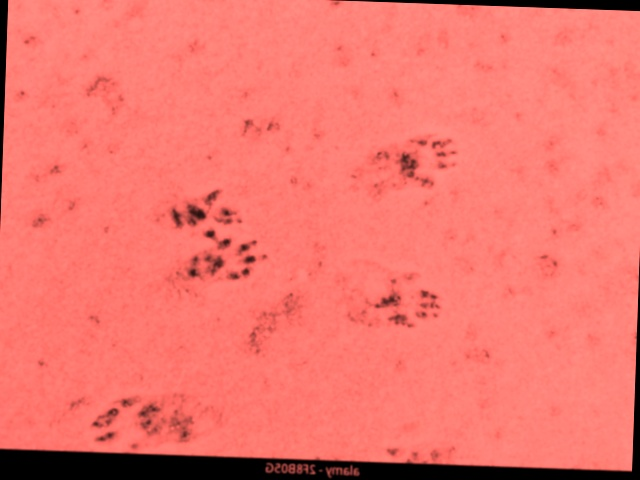ecureuil: (365, 186, 493, 302), (177, 119, 299, 205), (190, 253, 301, 331)
